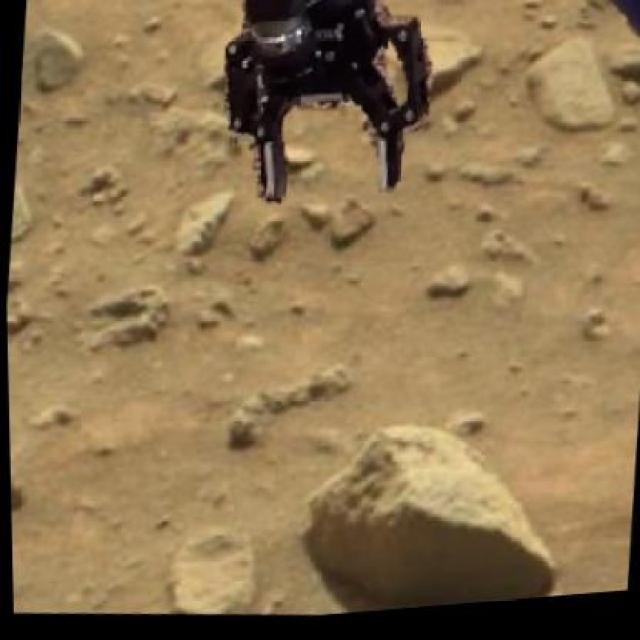rock: (294, 408, 583, 620), (514, 44, 624, 147), (8, 445, 30, 537)
